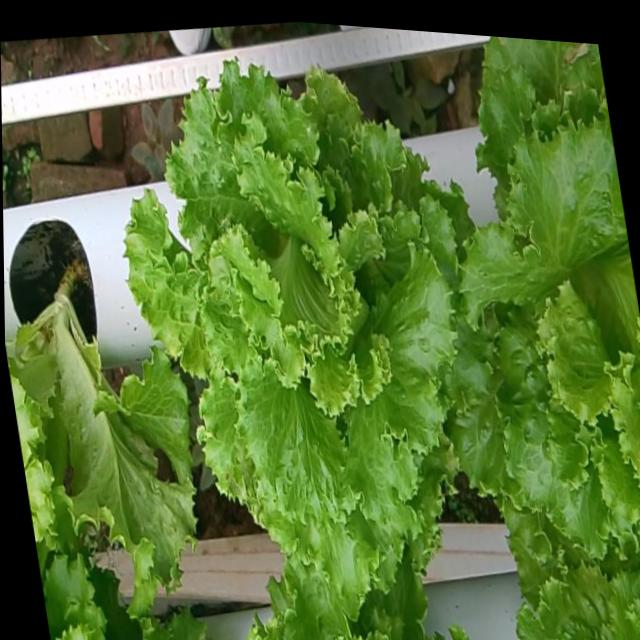Mature: (130, 47, 463, 583), (452, 99, 640, 547)
